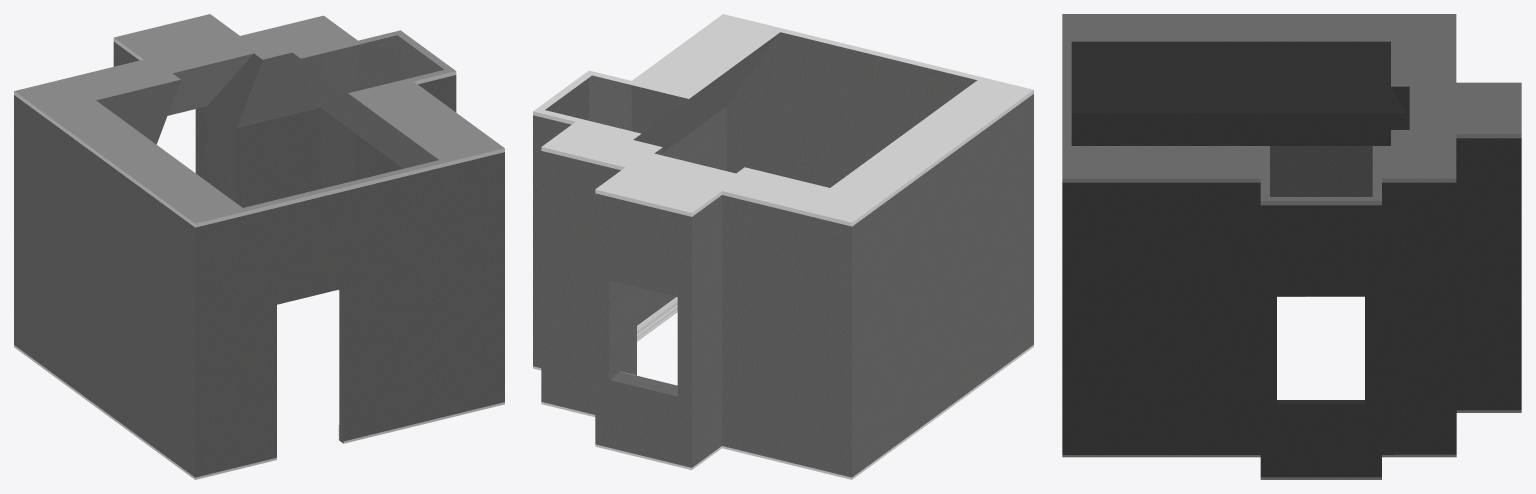
Rendered from FP319:StandardWallSize_016_1df9eb4e.obj.
3 views of the same model, side by side, from view 1: azimuth 30°, elevation 25°; view 2: azimuth 150°, elevation 25°; view 3: azimuth 270°, elevation 25° (orthographic). The views are drawn at different scales.
Visible parts, largest first — view 1: FP319:StandardWallSize.016_1df9eb4e; view 2: FP319:StandardWallSize.016_1df9eb4e; view 3: FP319:StandardWallSize.016_1df9eb4e.
Boxes of the visible parts, box(x1,y1,x2,y2) form: FP319:StandardWallSize.016_1df9eb4e: box(14, 14, 504, 479); FP319:StandardWallSize.016_1df9eb4e: box(533, 14, 1033, 479); FP319:StandardWallSize.016_1df9eb4e: box(1062, 14, 1521, 479).
Bounding box in the file's own units: 4.75 × 3.3 × 4.93.
